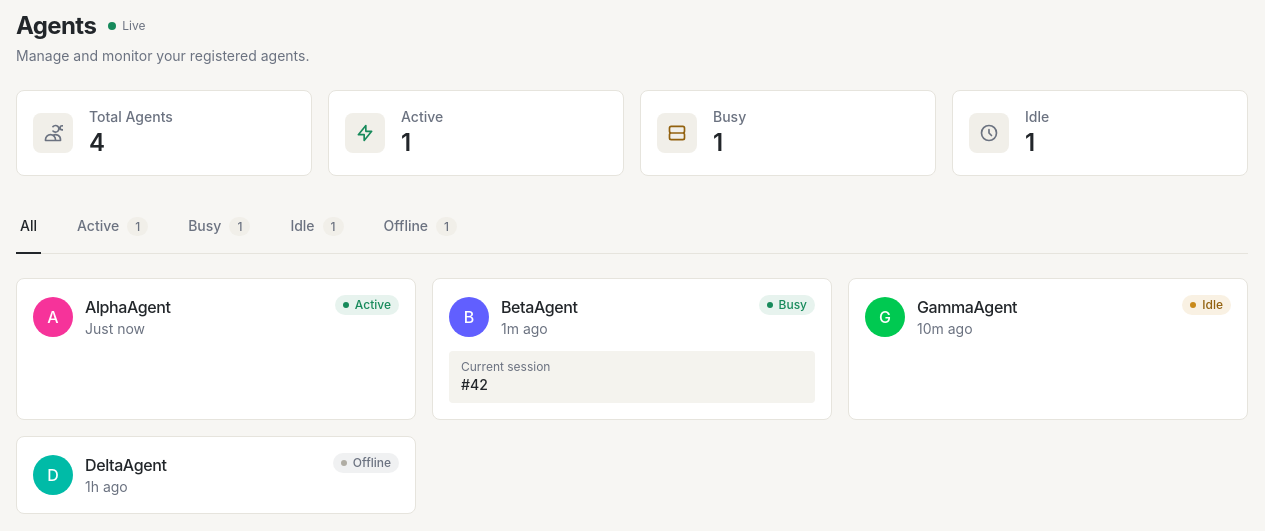
Scenario: AgentsDashboard › filters to idle agents
expect the heading "GammaAgent" is shown: met, box x1=917 y1=297 x2=1017 y2=317
Click on Idle filter tab (within the nav).
Click the button "Idle1". click: {"x": 317, "y": 227}
box: x1=286 y1=200 x2=348 y2=254
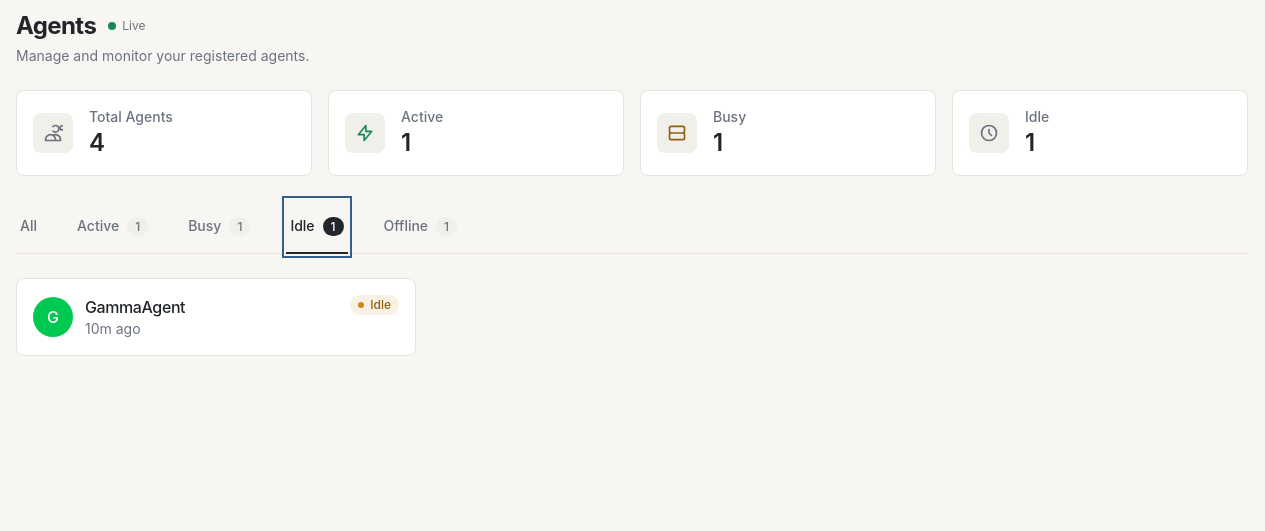
expect the heading "GammaAgent" is shown: met, box x1=85 y1=297 x2=185 y2=317
expect the button "AlphaAgent" is gone: met
